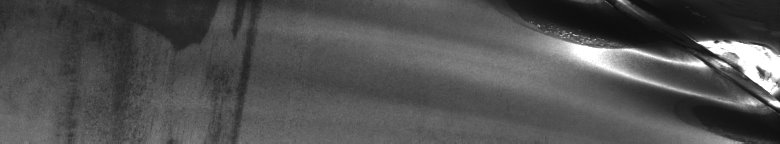ke: (537, 4, 776, 136)
